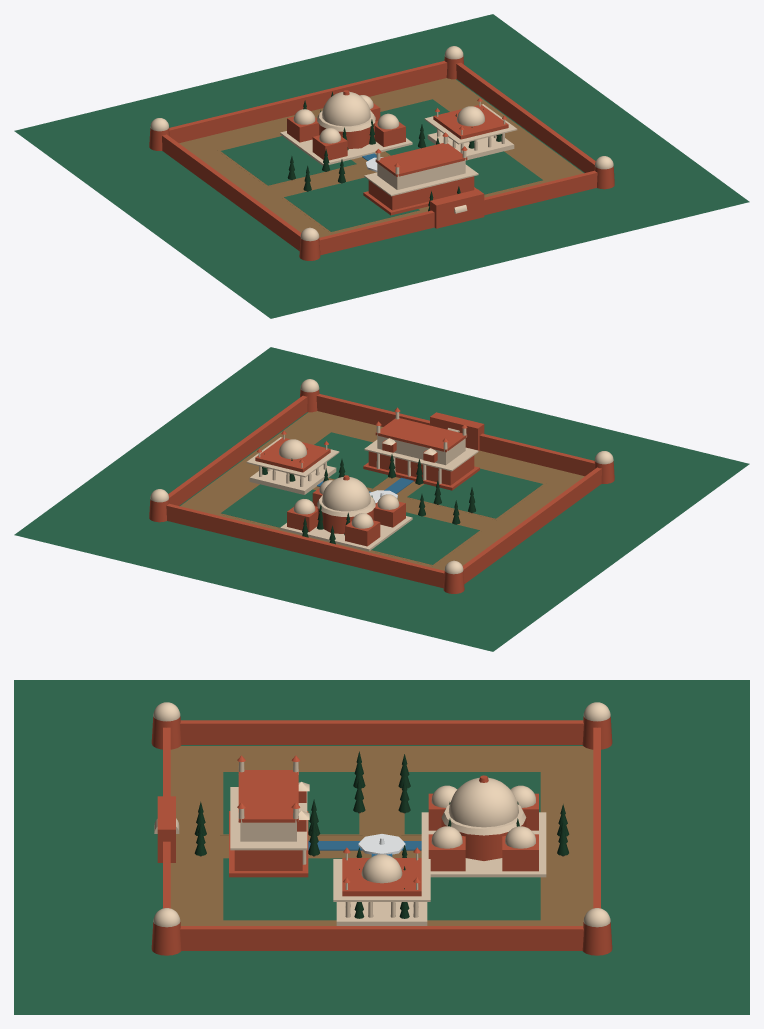
Rendered from aam-khas-bagh.glb.
3 views of the same model, one above another, from view 1: azimuth 30°, elevation 25°; view 2: azimuth 150°, elevation 25°; view 3: azimuth 270°, elevation 25° (orthographic). The views are drawn at different scales.
Visible parts, largest first — view 1: Surrounding_Mughal_Charbagh_Enclosure, Aam_Khas_Bagh_Mughal_Complex_LiDAR, Building_1_Shahi_Hammam, Building_2_Daulat_Khana_e_Khas, Building_3_Baradari_Pavilion; view 2: Surrounding_Mughal_Charbagh_Enclosure, Aam_Khas_Bagh_Mughal_Complex_LiDAR, Building_1_Shahi_Hammam, Building_2_Daulat_Khana_e_Khas, Building_3_Baradari_Pavilion; view 3: Surrounding_Mughal_Charbagh_Enclosure, Aam_Khas_Bagh_Mughal_Complex_LiDAR, Building_1_Shahi_Hammam, Building_2_Daulat_Khana_e_Khas, Building_3_Baradari_Pavilion.
Boxes of the visible parts, bbox=[...] form: Surrounding_Mughal_Charbagh_Enclosure: bbox=[14, 14, 749, 318]; Aam_Khas_Bagh_Mughal_Complex_LiDAR: bbox=[179, 78, 583, 237]; Building_1_Shahi_Hammam: bbox=[280, 90, 412, 165]; Building_2_Daulat_Khana_e_Khas: bbox=[363, 132, 478, 215]; Building_3_Baradari_Pavilion: bbox=[424, 98, 517, 160]; Surrounding_Mughal_Charbagh_Enclosure: bbox=[14, 347, 749, 651]; Aam_Khas_Bagh_Mughal_Complex_LiDAR: bbox=[180, 411, 584, 570]; Building_1_Shahi_Hammam: bbox=[280, 475, 412, 551]; Building_2_Daulat_Khana_e_Khas: bbox=[363, 407, 479, 490]; Building_3_Baradari_Pavilion: bbox=[246, 431, 339, 494]; Surrounding_Mughal_Charbagh_Enclosure: bbox=[14, 680, 749, 1014]; Aam_Khas_Bagh_Mughal_Complex_LiDAR: bbox=[170, 746, 593, 925]; Building_1_Shahi_Hammam: bbox=[421, 775, 546, 877]; Building_2_Daulat_Khana_e_Khas: bbox=[229, 755, 309, 877]; Building_3_Baradari_Pavilion: bbox=[333, 847, 430, 925].
Size of the model in its own units: 140 by 16 by 130.
